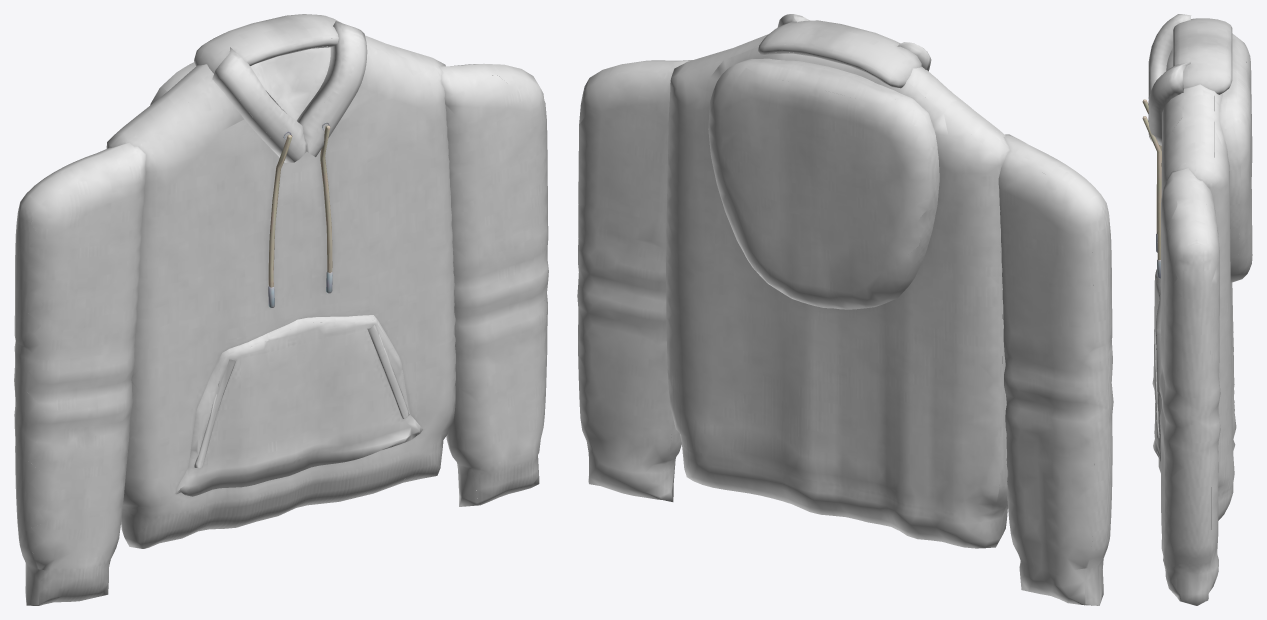
The model's file is hoodie.glb.
3 views of the same model, side by side, from view 1: azimuth 30°, elevation 25°; view 2: azimuth 150°, elevation 25°; view 3: azimuth 270°, elevation 25° (orthographic). The views are drawn at different scales.
Visible parts, largest first — view 1: hoodie_body; view 2: hoodie_body; view 3: hoodie_body.
Part boxes in pixels (x1,y1,x2,y2): hoodie_body: [14, 14, 548, 605]; hoodie_body: [577, 14, 1113, 605]; hoodie_body: [1142, 14, 1252, 605].
Size of the model in its own units: 0.8278 by 0.7768 by 0.1669.
2 materials, 2 textured.
